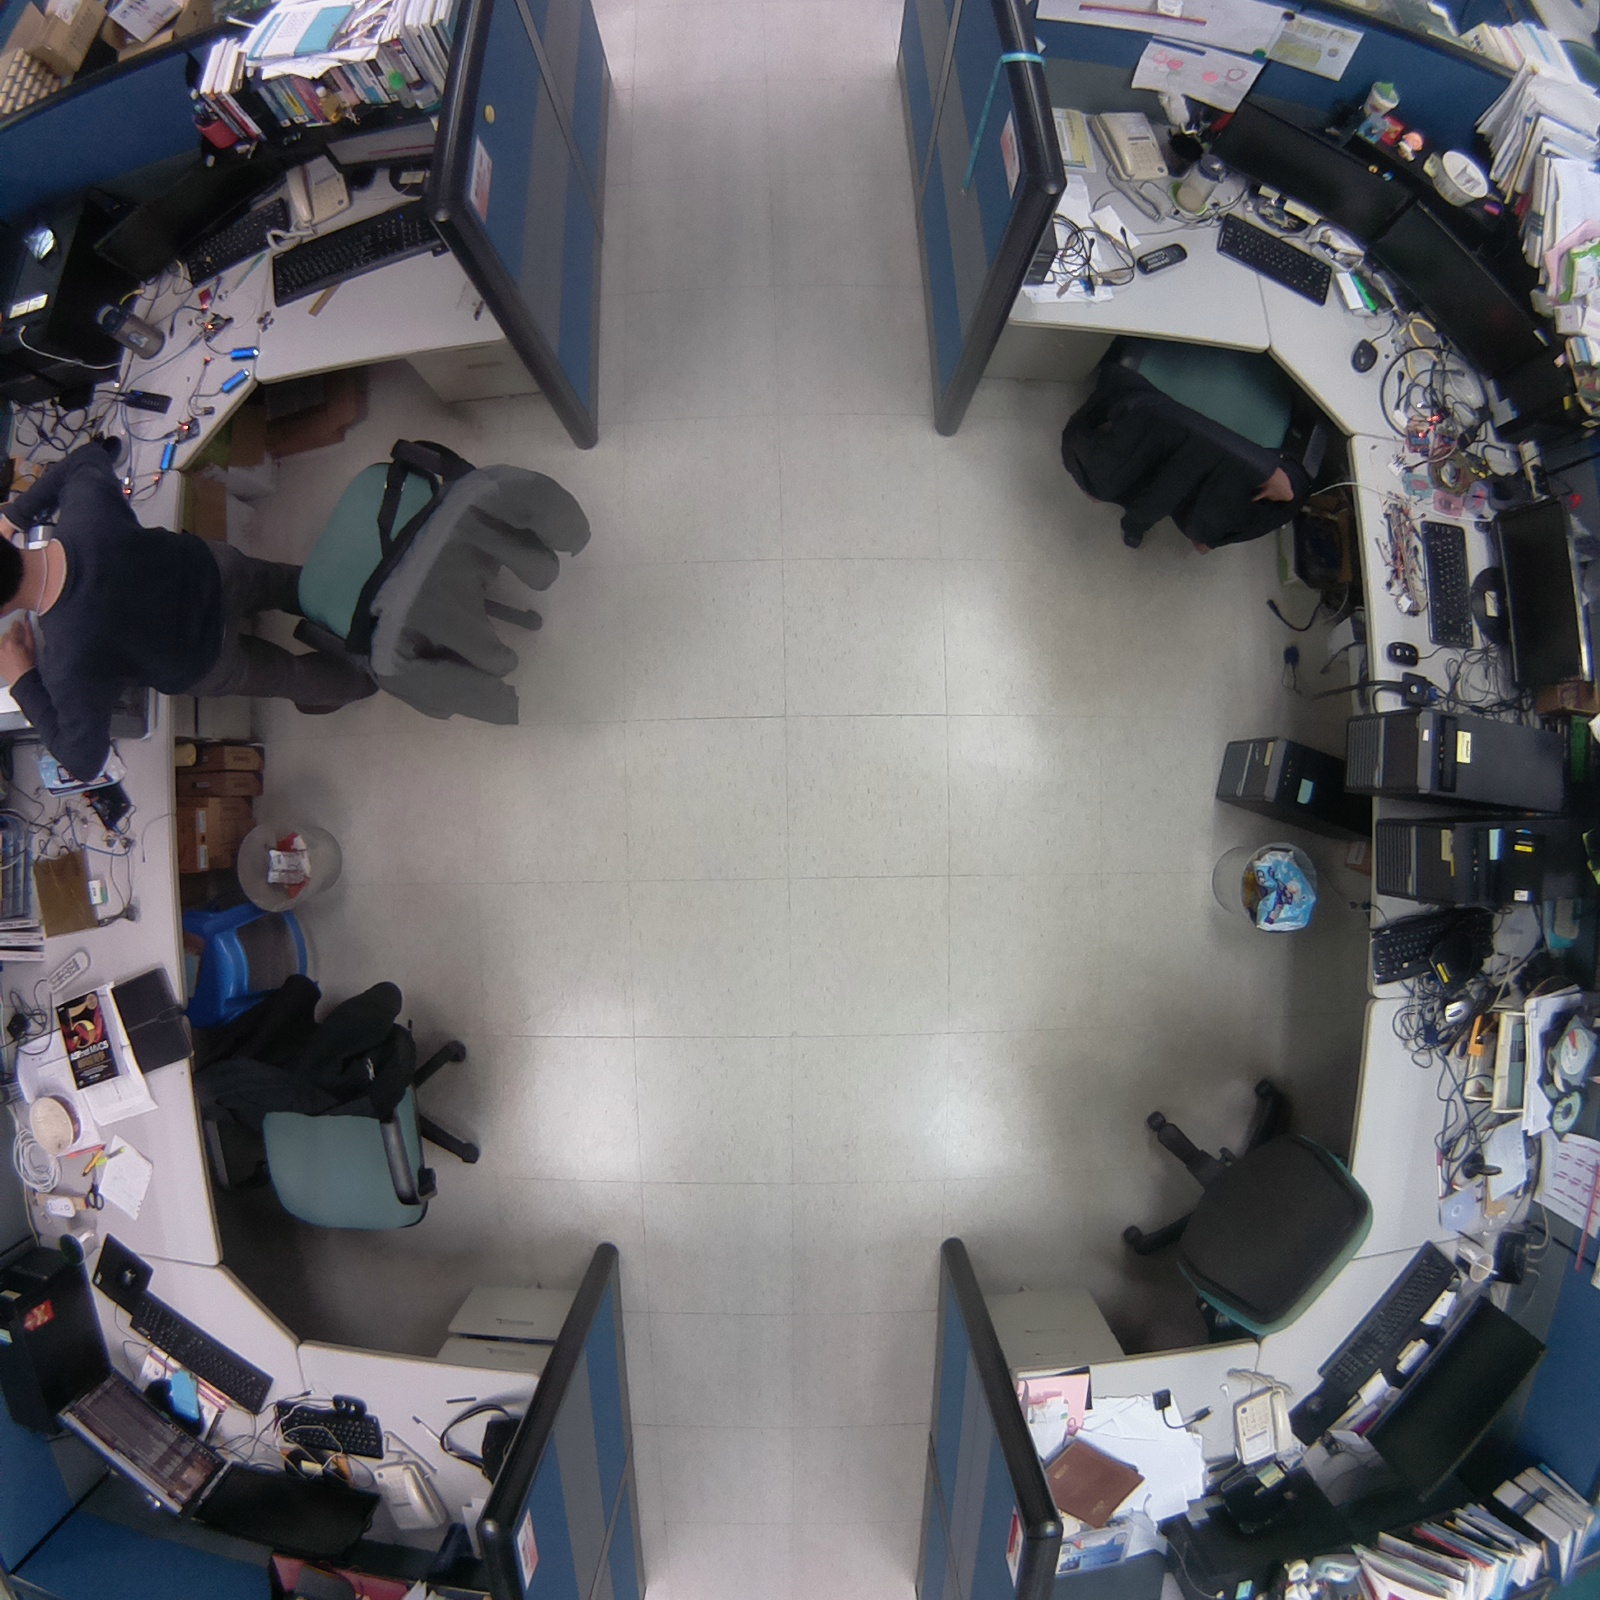chair: (281, 423, 607, 755), (190, 973, 505, 1248), (1109, 1059, 1385, 1358), (1055, 318, 1314, 588)
standing: (1, 426, 388, 791)
